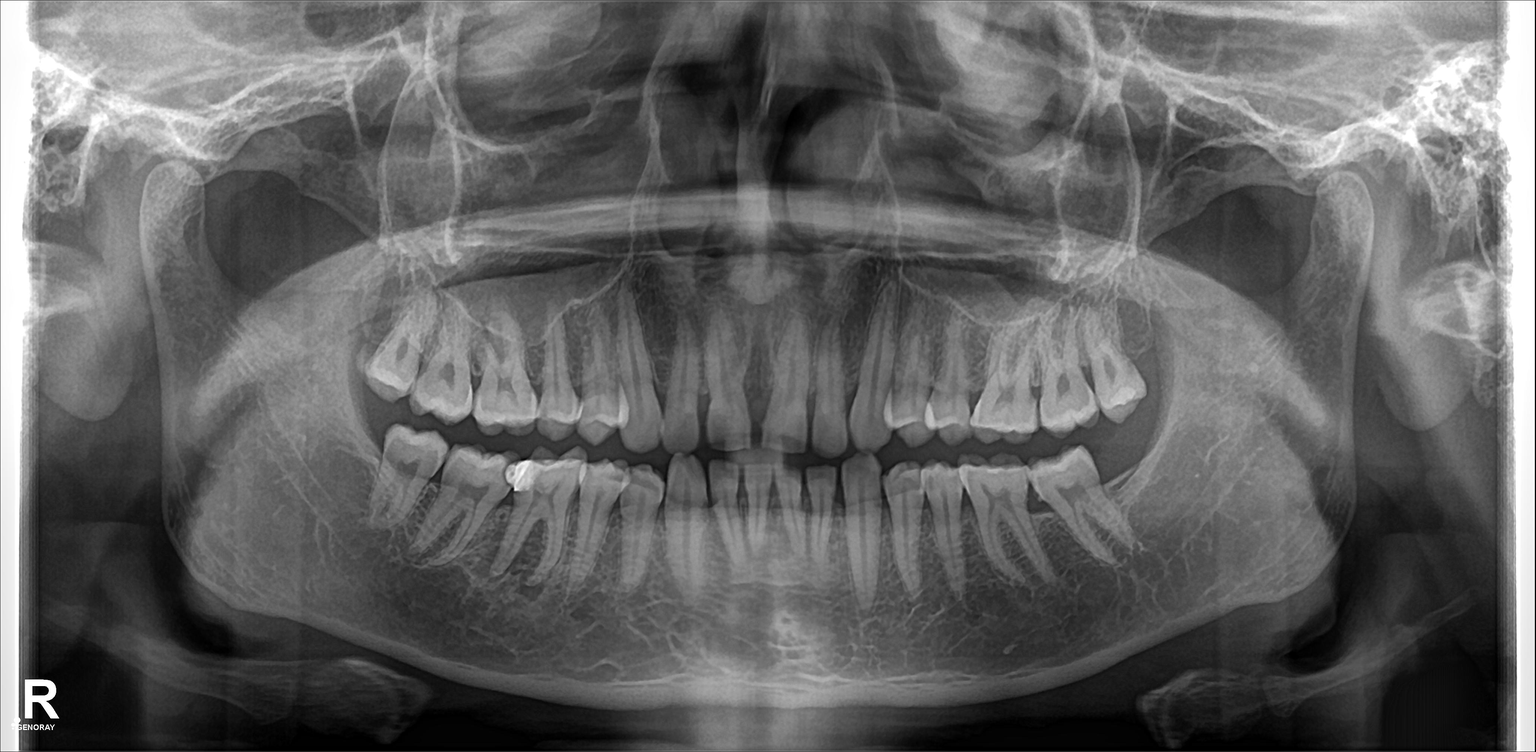Missing Tooth: (1094, 428, 1152, 496)
